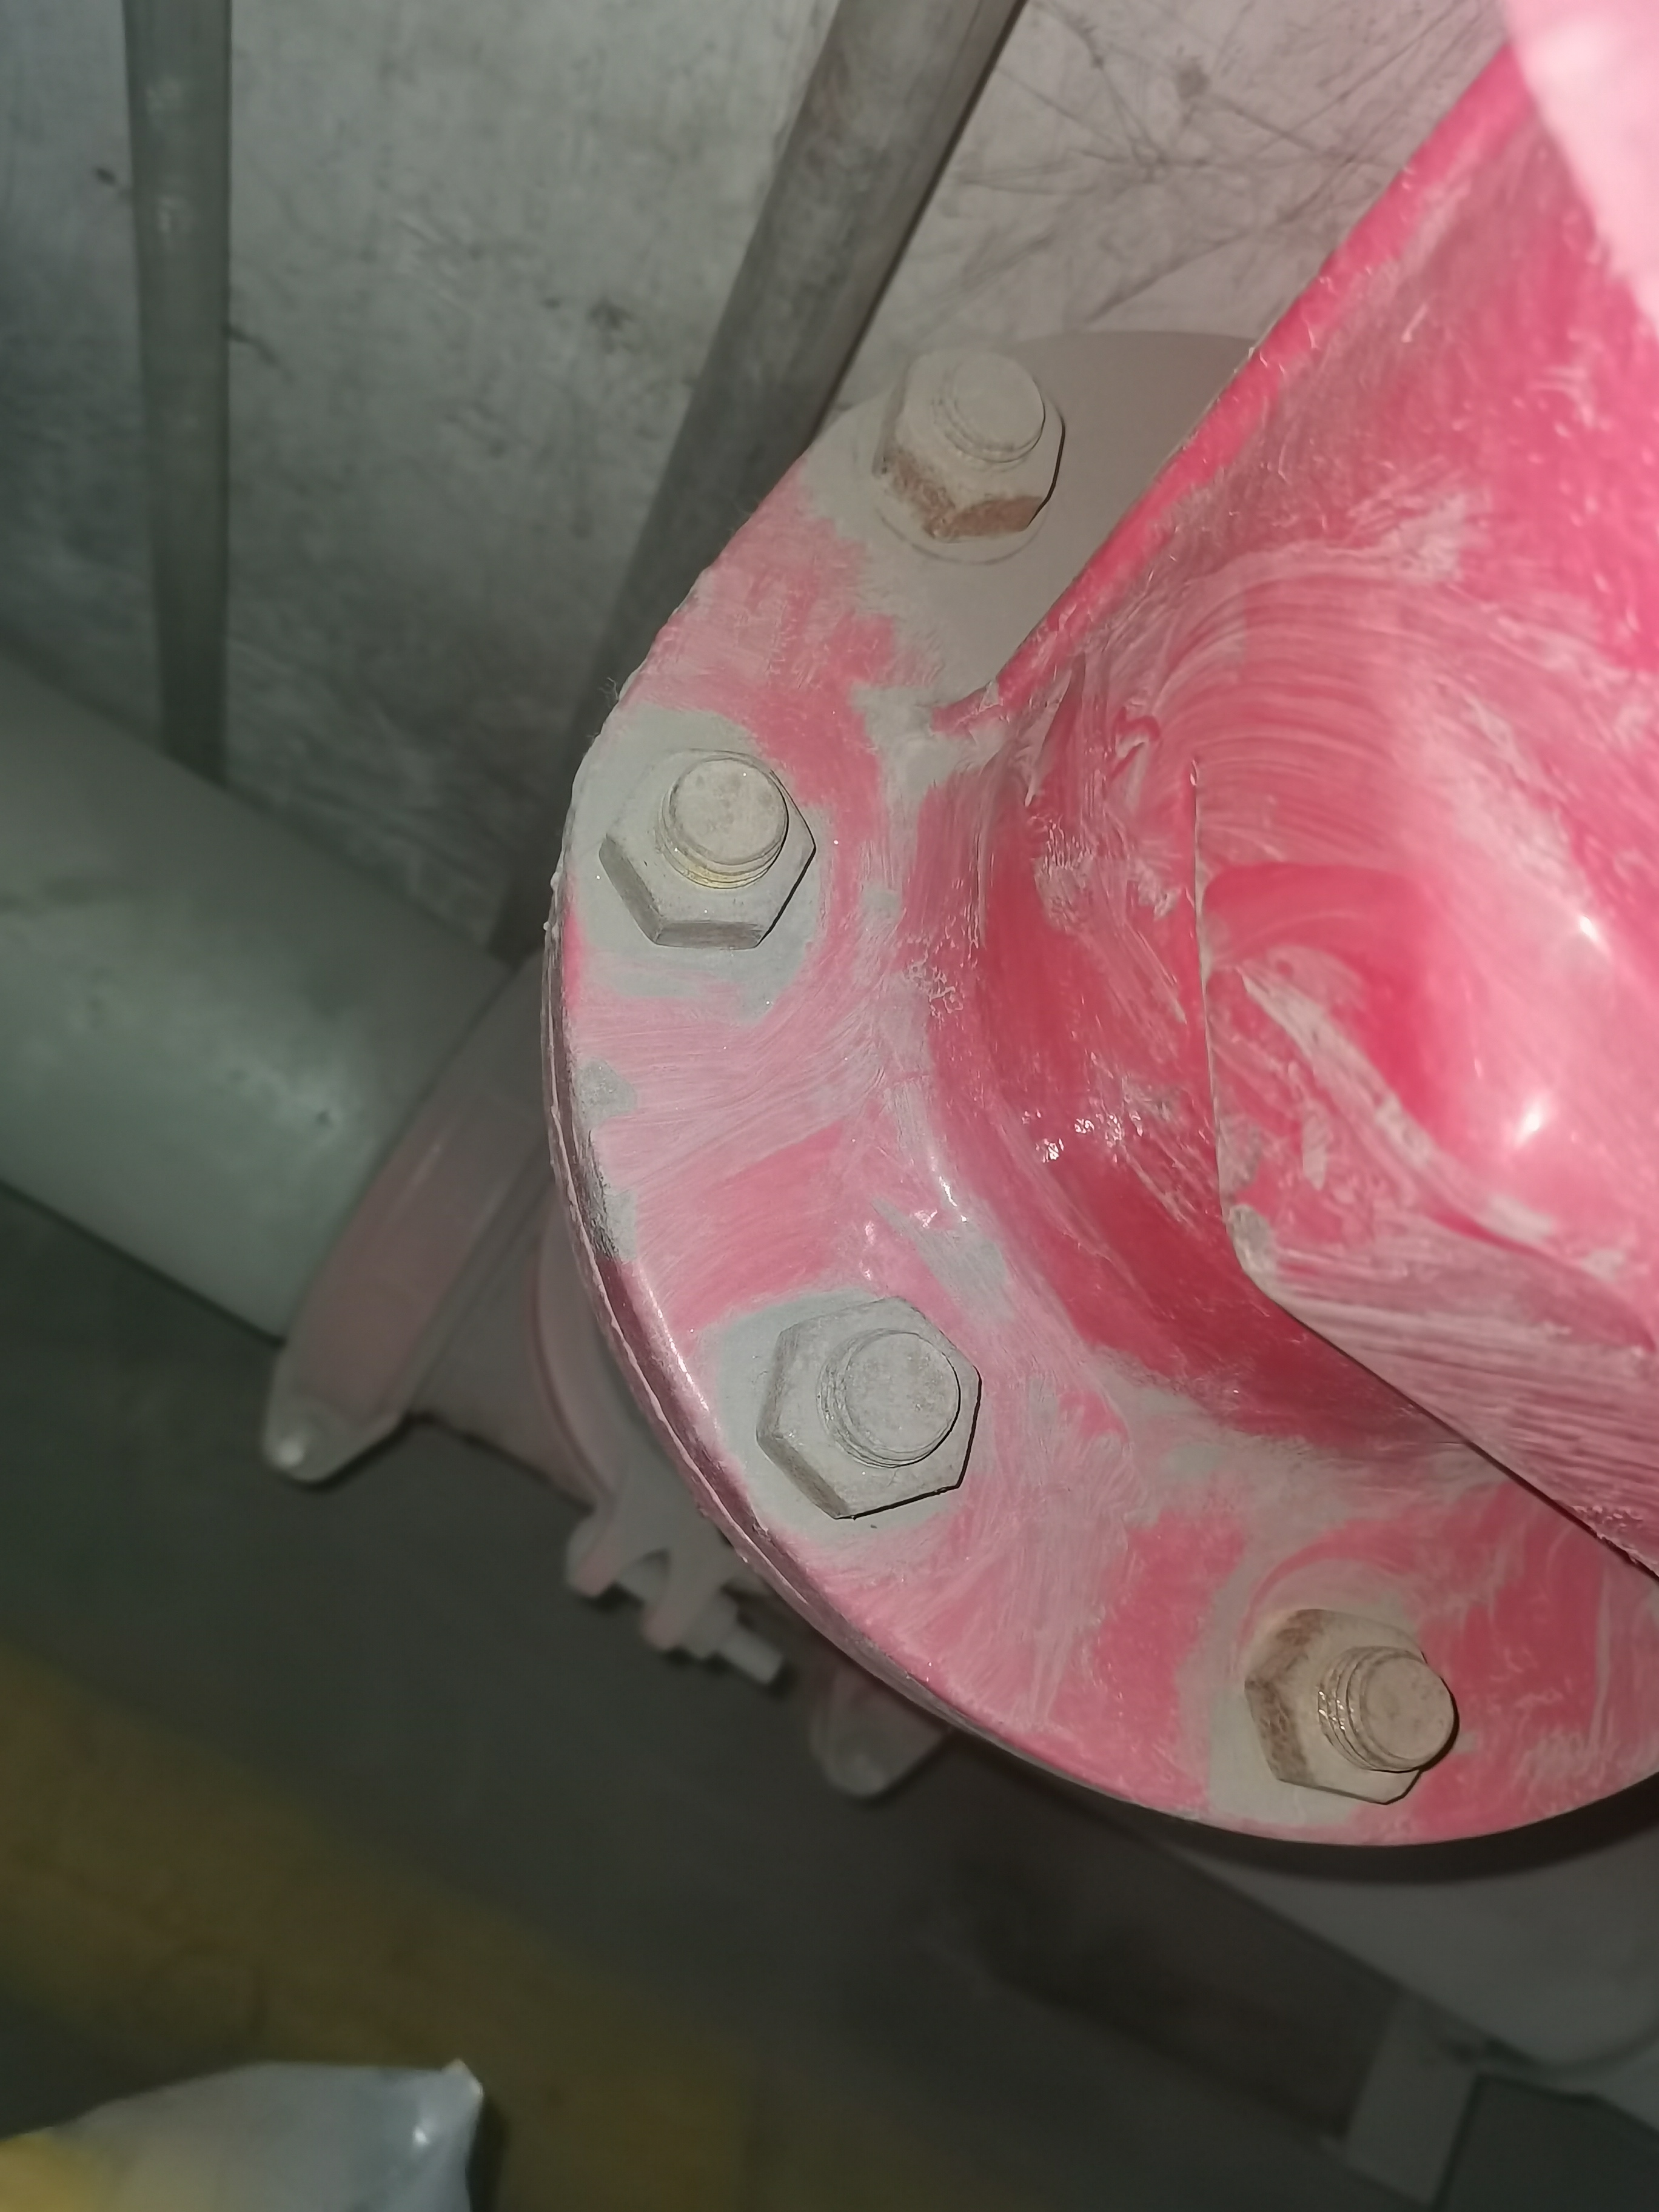bolt_b: (744, 1284, 985, 1524), (589, 737, 824, 956), (1234, 1594, 1455, 1810), (868, 327, 1077, 554)
